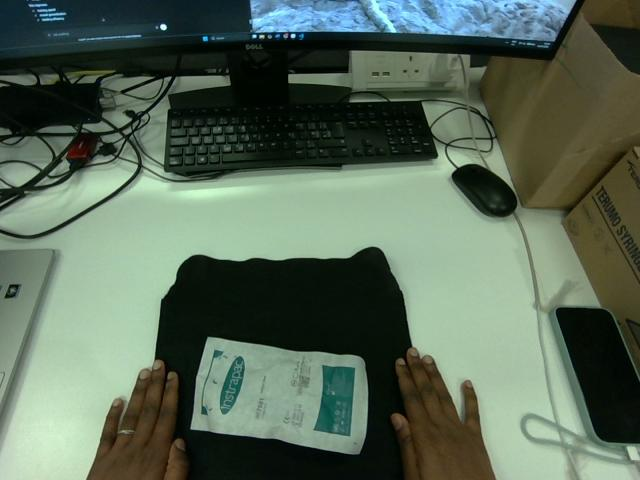gallipot: (191, 337, 367, 454)
